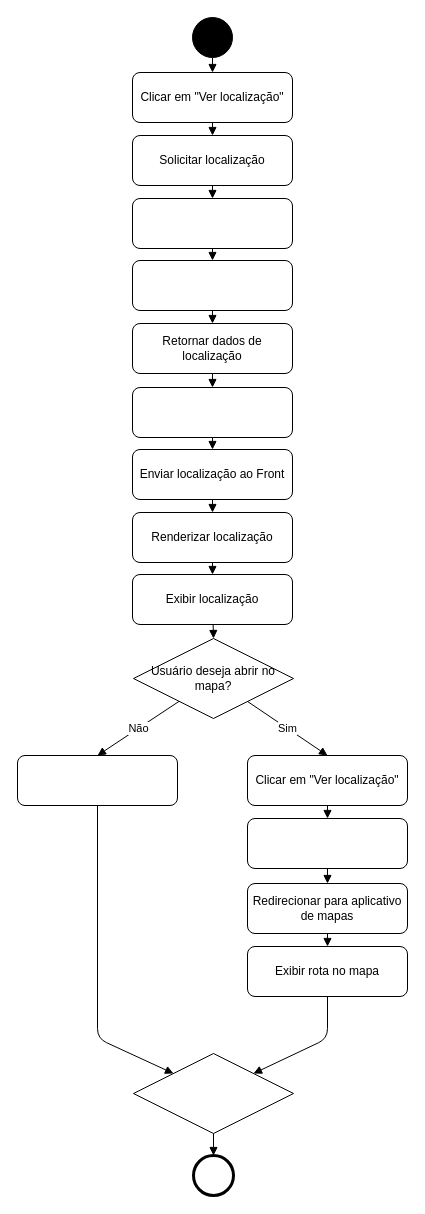
Some shapes in this 425 by 1214 pixel diagram are drawn without their labels. Each missing label, with the centre of its shape:
(continua na tela atual): (x=97, y=780)
Buscar endereço do evento: (x=212, y=285)
Buscar localização: (x=212, y=223)
Preparar coordenadas: (x=327, y=843)
Retornar localização: (x=212, y=412)
